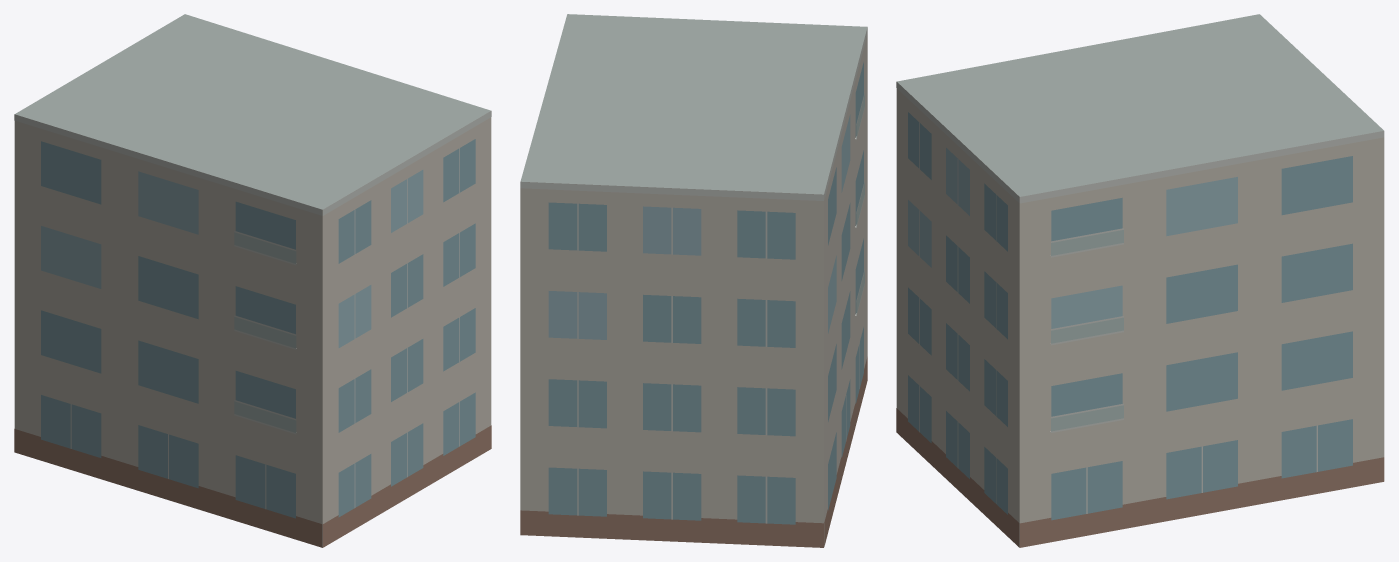
Rendered from survey-upis-32952814.glb.
The picture shows the model from 3 angles, left to right: view 1: azimuth 30°, elevation 25°; view 2: azimuth 150°, elevation 25°; view 3: azimuth 270°, elevation 25°; orthographic projection. The views are drawn at different scales.
Parts seen in each view (by area): view 1: survey-upis-32952814.tmp; view 2: survey-upis-32952814.tmp; view 3: survey-upis-32952814.tmp.
Boxes of the visible parts, <box> form: survey-upis-32952814.tmp: <box>14,14,491,547</box>; survey-upis-32952814.tmp: <box>520,14,867,547</box>; survey-upis-32952814.tmp: <box>896,14,1384,547</box>.
Size of the model in its own units: 14.6 by 13.05 by 16.45.
